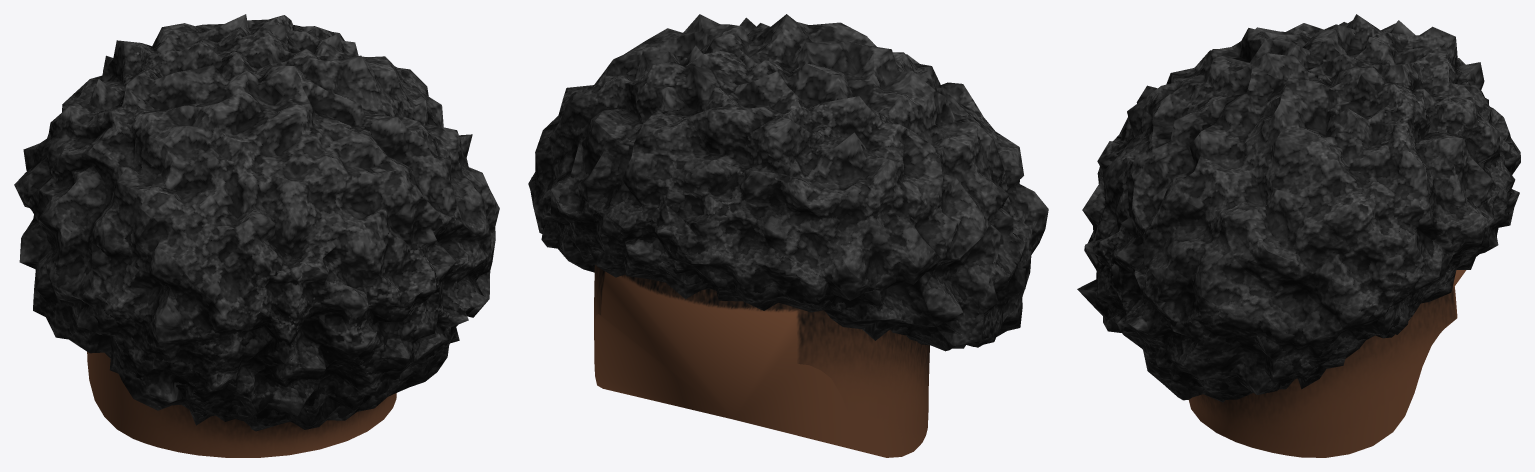
3 views of the same model, side by side, from view 1: azimuth 30°, elevation 25°; view 2: azimuth 150°, elevation 25°; view 3: azimuth 270°, elevation 25° (orthographic). The views are drawn at different scales.
Visible parts, largest first — view 1: geometry_0; view 2: geometry_0; view 3: geometry_0.
Part boxes in pixels (x1,y1,x2,y2): geometry_0: (14,14,499,457); geometry_0: (528,14,1048,457); geometry_0: (1077,14,1520,457).
Size of the model in its own units: 1.89 by 1.51 by 1.74.
Materials: 1 (1 with a texture image).
